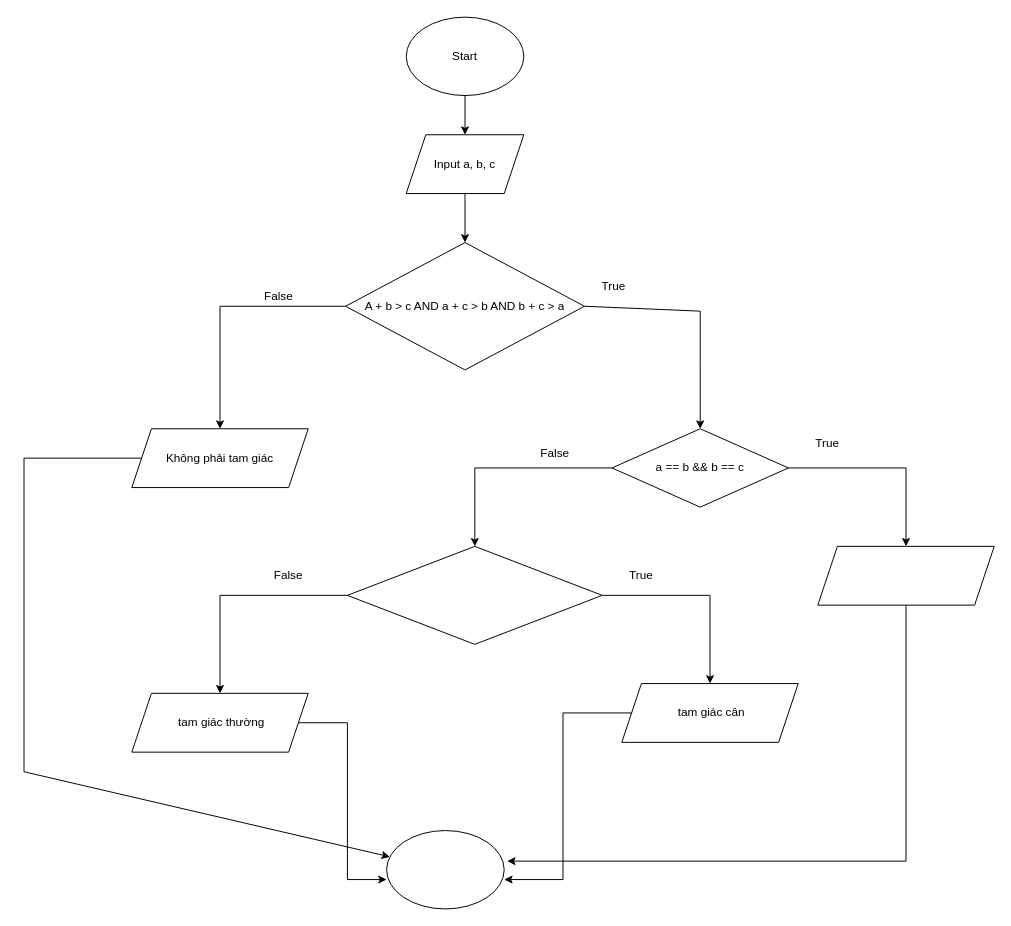
Image size: 1011x926. Some labels were removed from this diagram. Each missing label, with the centre of its shape:
"(a == b) OR (a == c) OR (b == c)" belongs at point (474, 594).
"End" belongs at point (445, 869).
"tam giác đều" belongs at point (905, 575).
